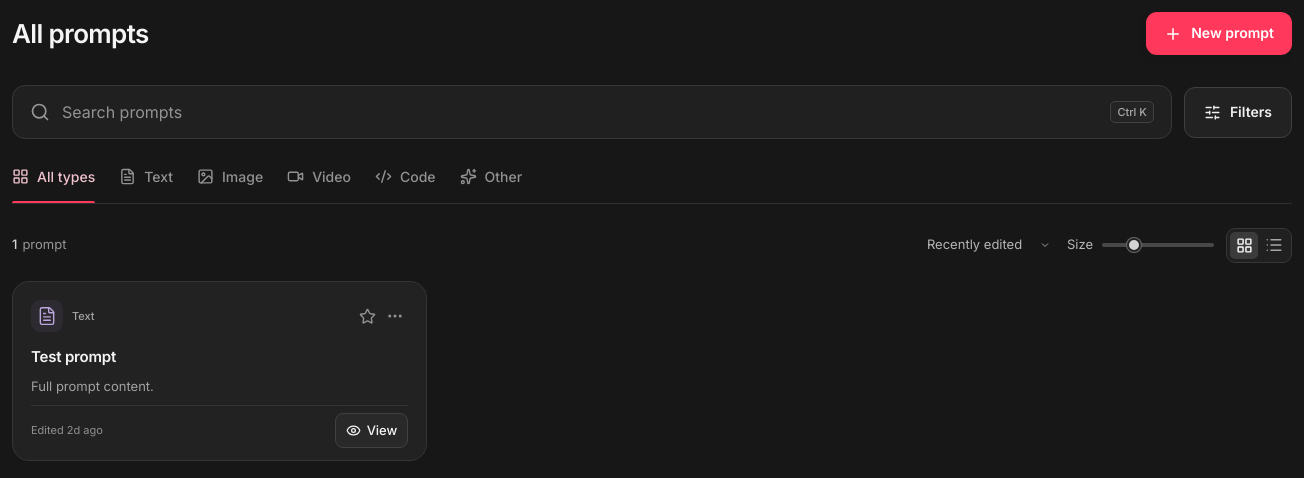
device-local grid size › hides the slider in list view while retaining the selected grid size
Set the slider named "Card size" to "240": (1110, 245) [1102,227,1214,263]
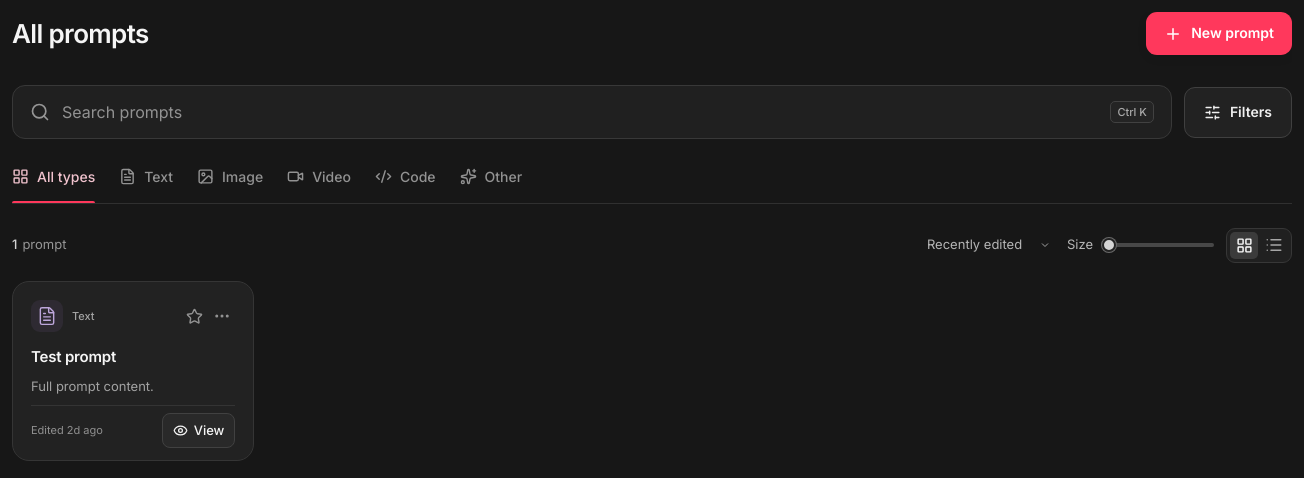
Click the button named "List view": (1274, 245) [1260,232,1288,258]
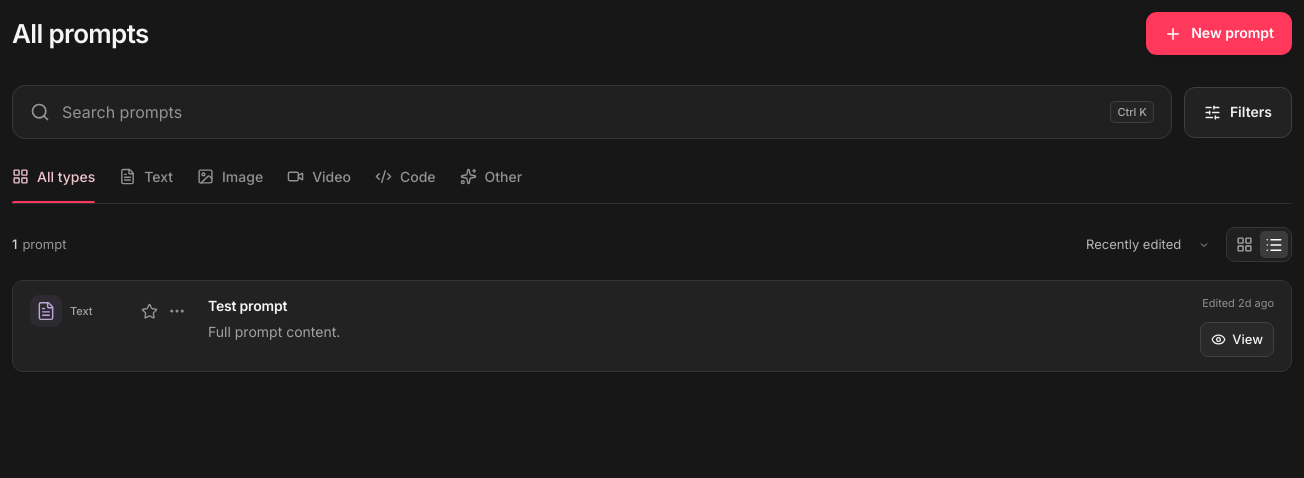
Now the slider is gone
Click the button named "Grid view": (1244, 244) [1230,231,1258,258]
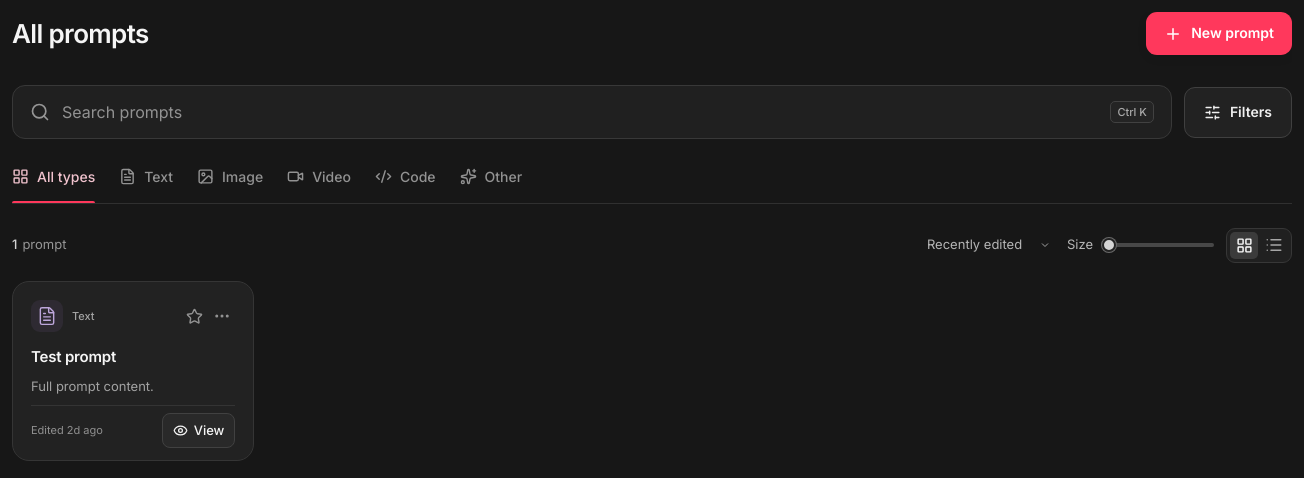
Now the slider named "Card size" holds "240", box [1102,227,1214,263]
